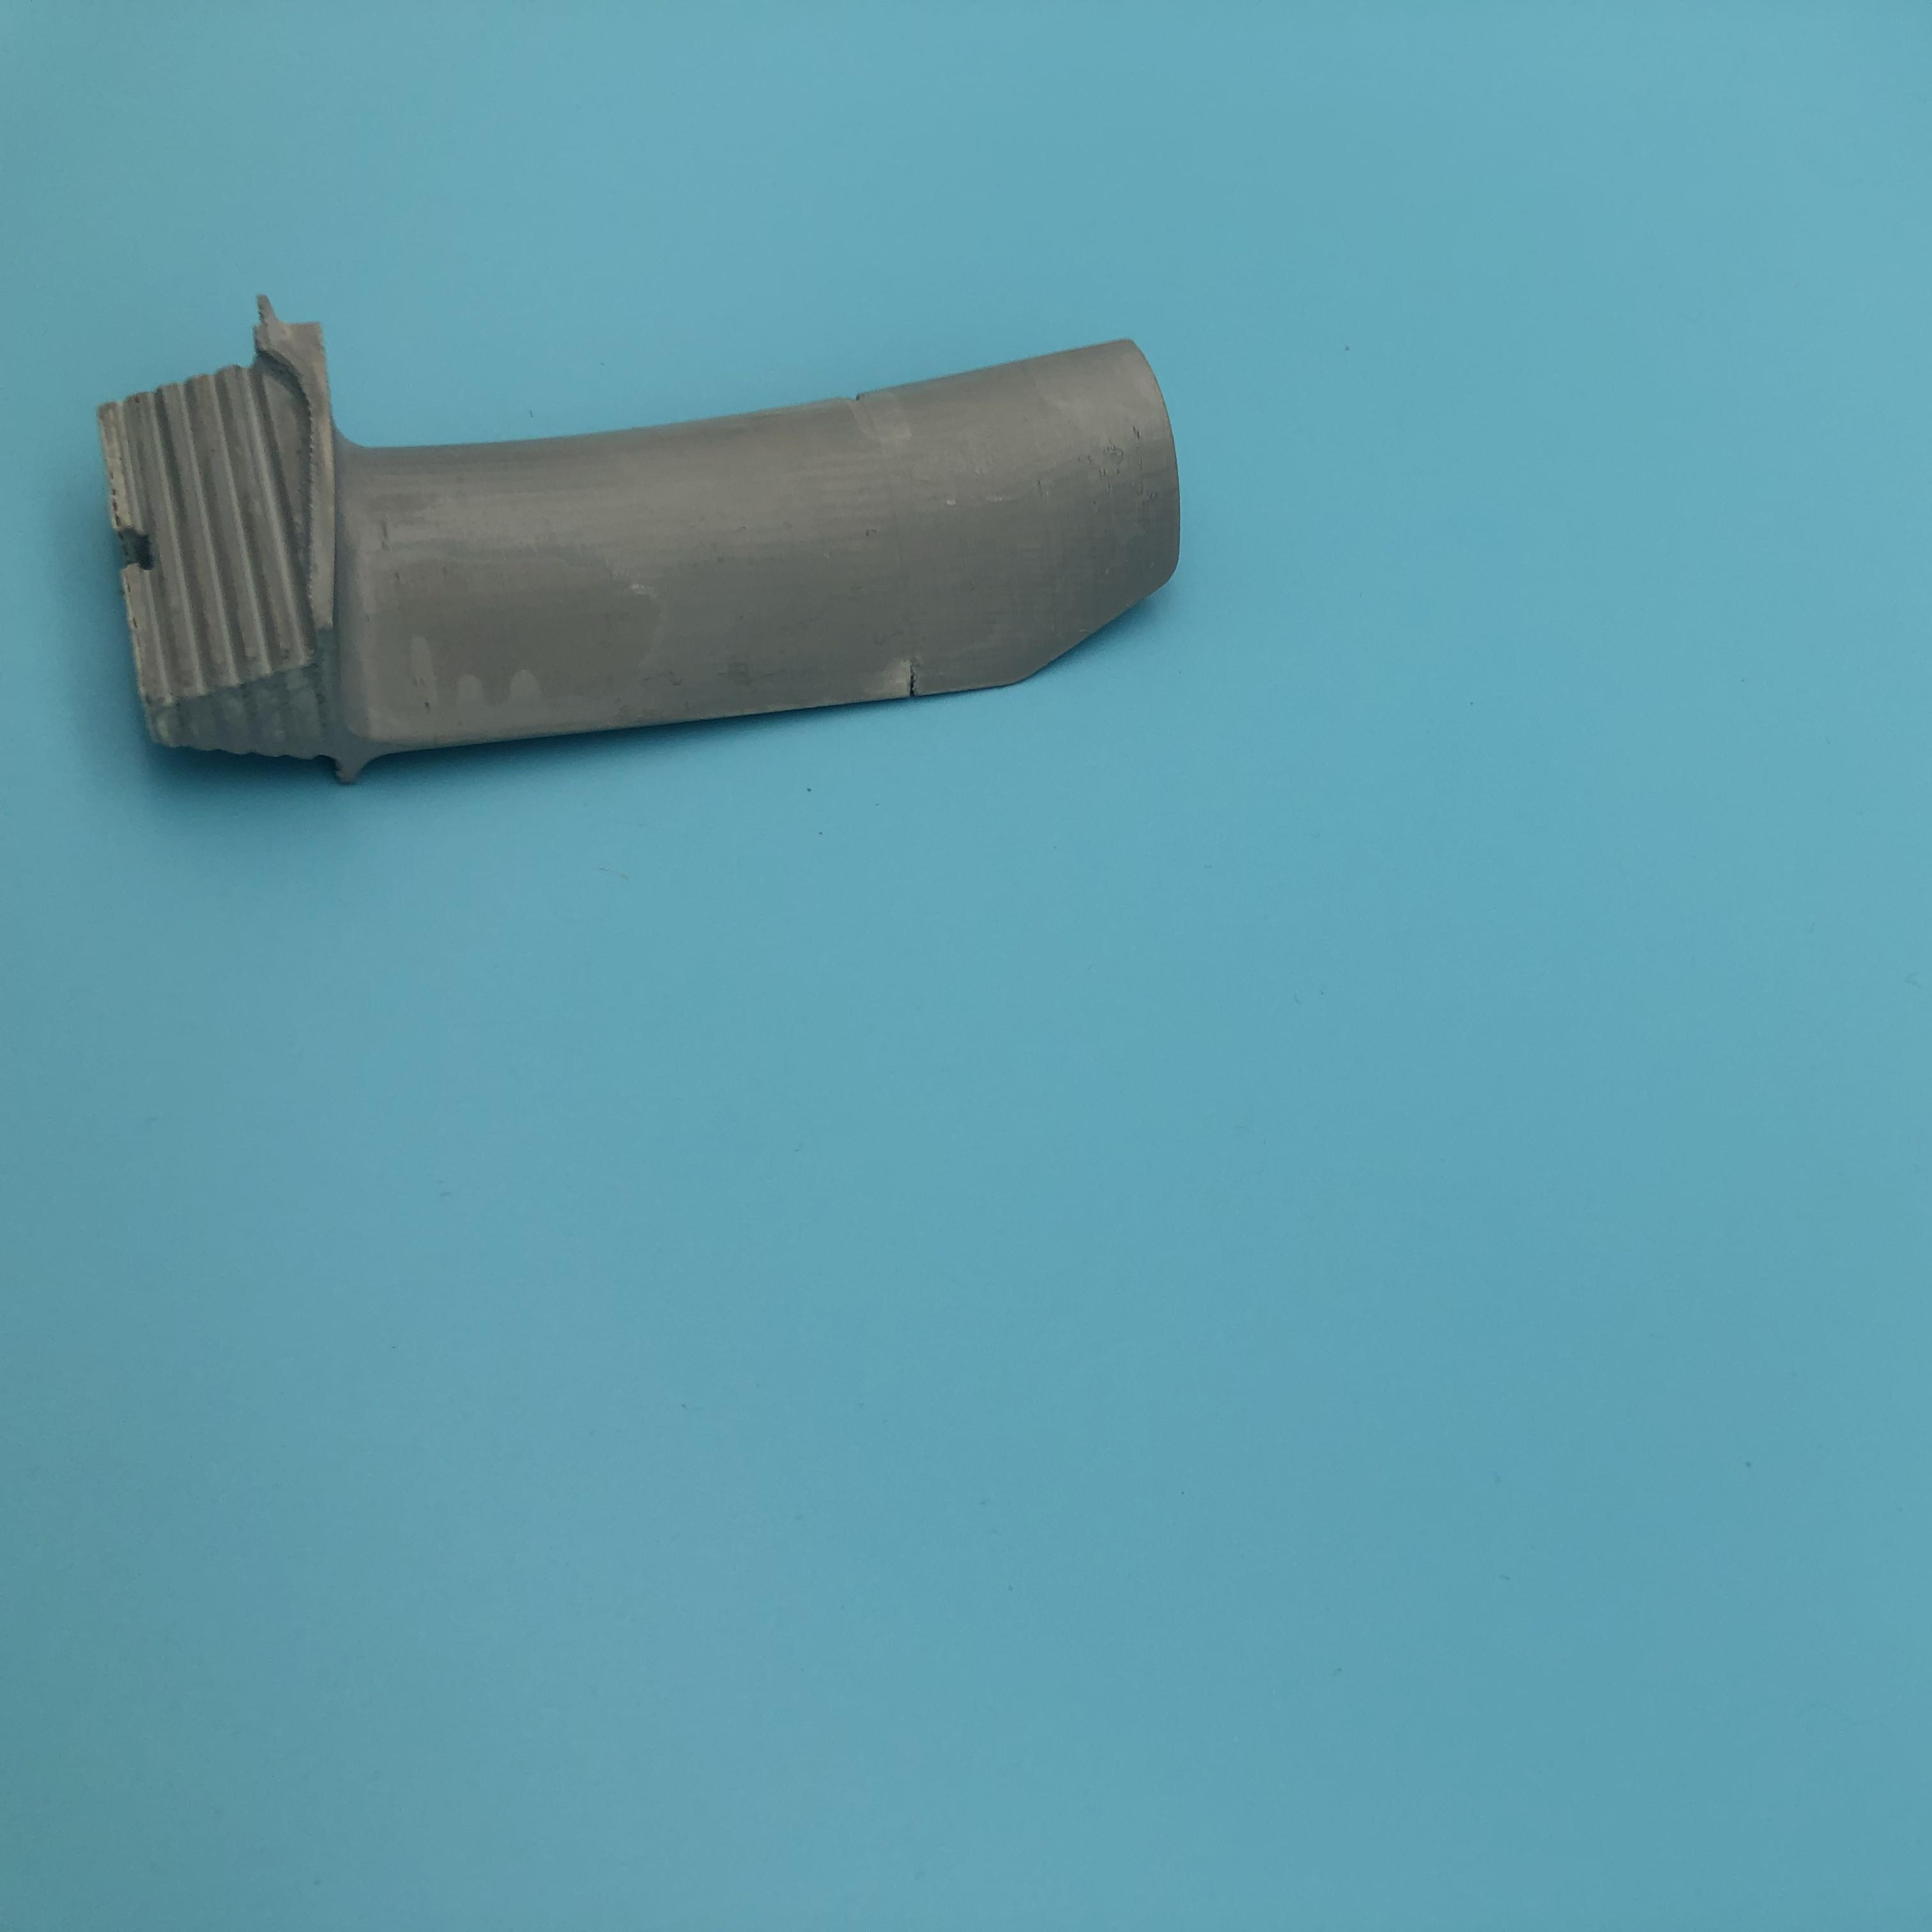groove: (895, 658, 934, 697), (842, 382, 886, 409)
